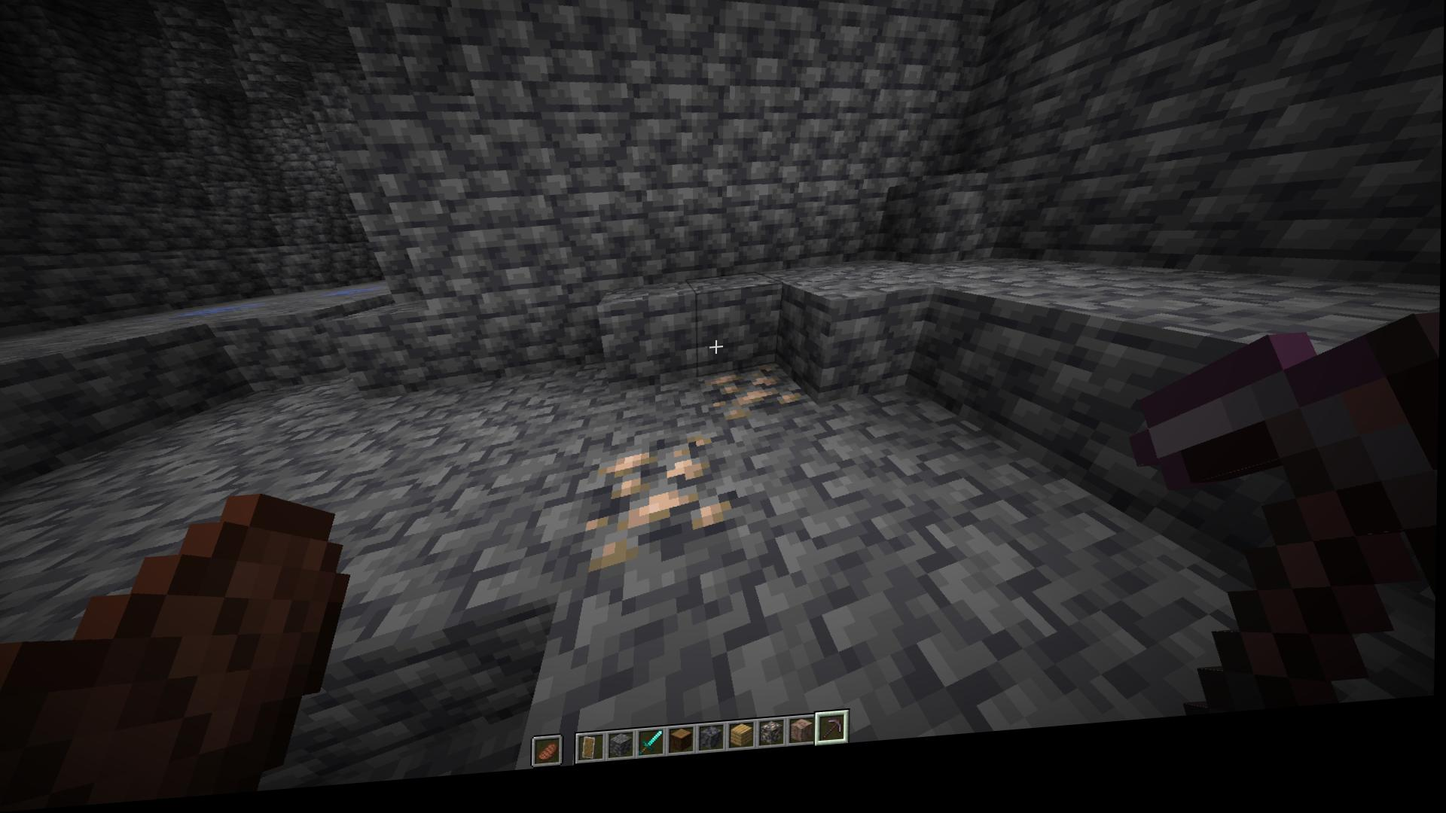iron ore: (581, 440, 735, 570), (707, 374, 809, 438)
